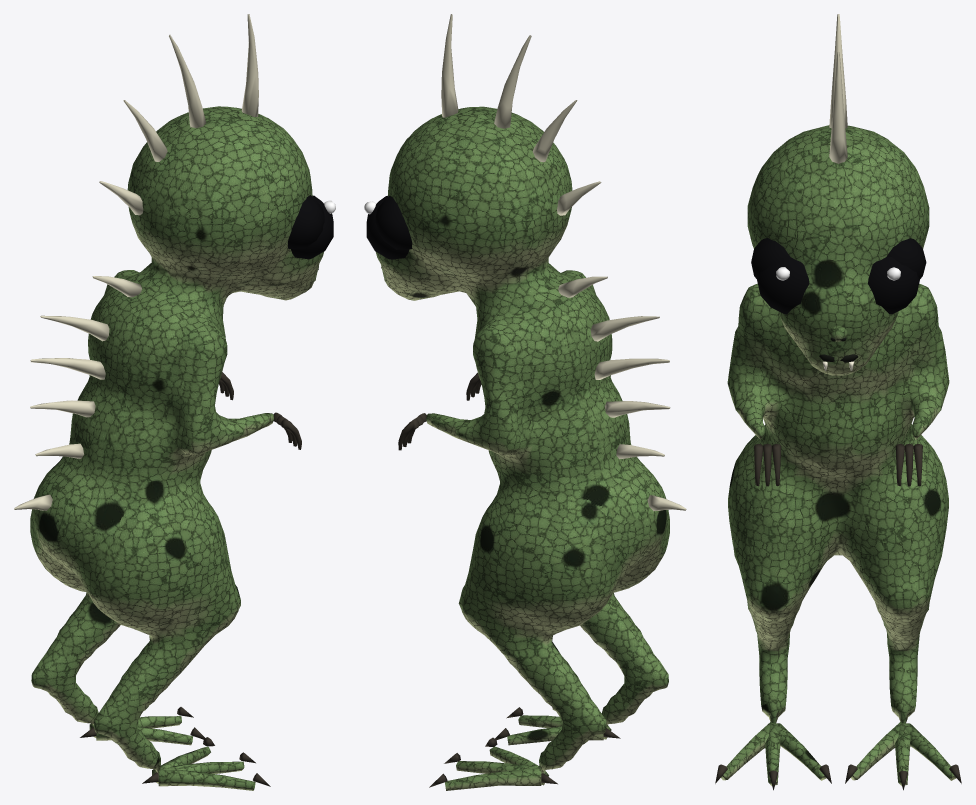
Rendered from chupacabra.glb.
3 views of the same model, side by side, from view 1: azimuth 30°, elevation 25°; view 2: azimuth 150°, elevation 25°; view 3: azimuth 270°, elevation 25° (orthographic). The views are drawn at different scales.
Visible parts, largest first — view 1: chupacabra.001; view 2: chupacabra.001; view 3: chupacabra.001.
Part boxes in pixels (<box>): chupacabra.001: <box>14,14,335,790</box>; chupacabra.001: <box>364,14,686,790</box>; chupacabra.001: <box>715,14,961,790</box>.
Size of the model in its own units: 0.631 by 1.41 by 0.418.
Materials: 7 (1 with a texture image).
